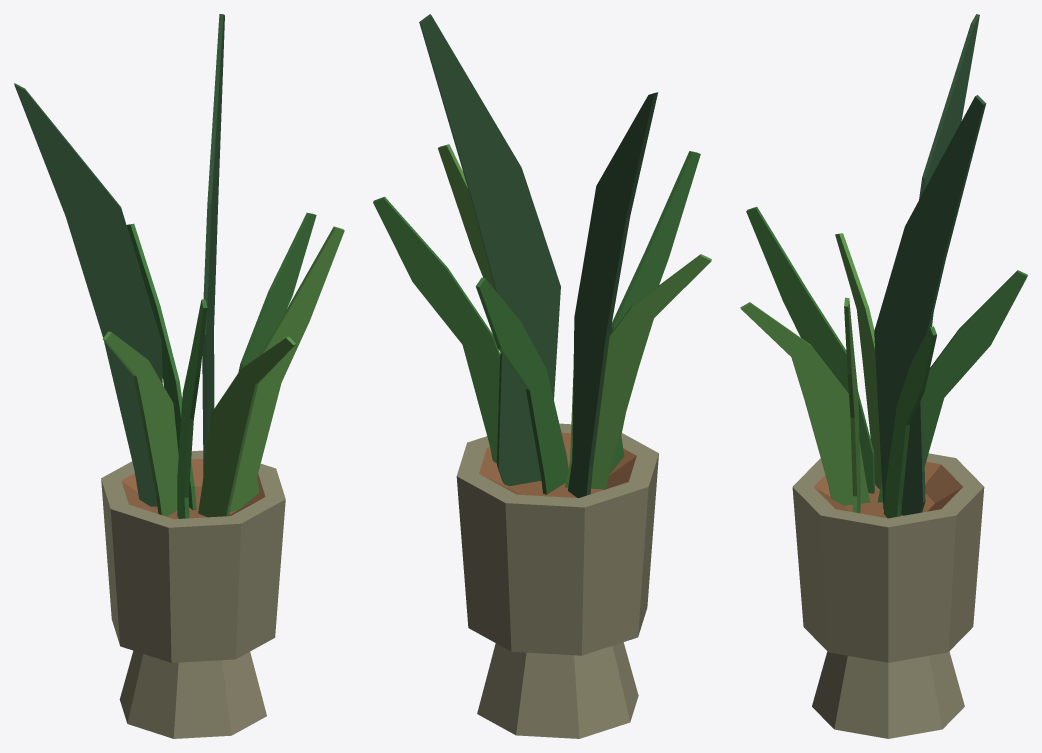
The model's file is flower_pot.fbx.
3 renders of one model, left to right at view 1: azimuth 30°, elevation 25°; view 2: azimuth 150°, elevation 25°; view 3: azimuth 270°, elevation 25°, orthographic. The views are drawn at different scales.
Parts seen in each view (by area): view 1: flower_pot; view 2: flower_pot; view 3: flower_pot.
Boxes of the visible parts, x1,y1,x2,y2 form: flower_pot: (14, 14, 344, 738); flower_pot: (373, 14, 711, 738); flower_pot: (740, 14, 1027, 738).
Bounding box in the file's own units: 57.53 × 126 × 50.86.
